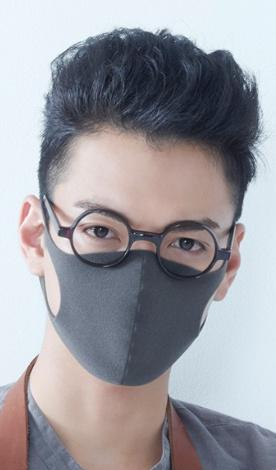OK: (44, 186, 228, 390)
